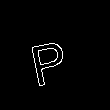P_N: (30, 31, 76, 87)
